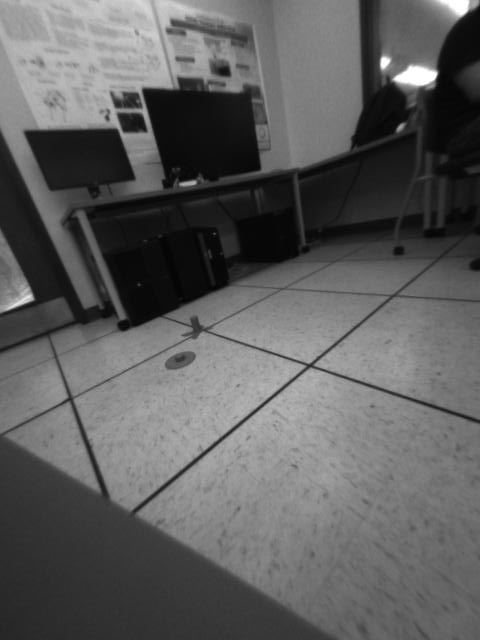X: (182, 317, 213, 339)
